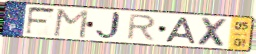A: (163, 16, 198, 45)
F: (24, 6, 58, 37)
J: (94, 11, 126, 41)
M: (51, 8, 91, 40)
R: (125, 13, 159, 42)
X: (196, 16, 231, 49)
